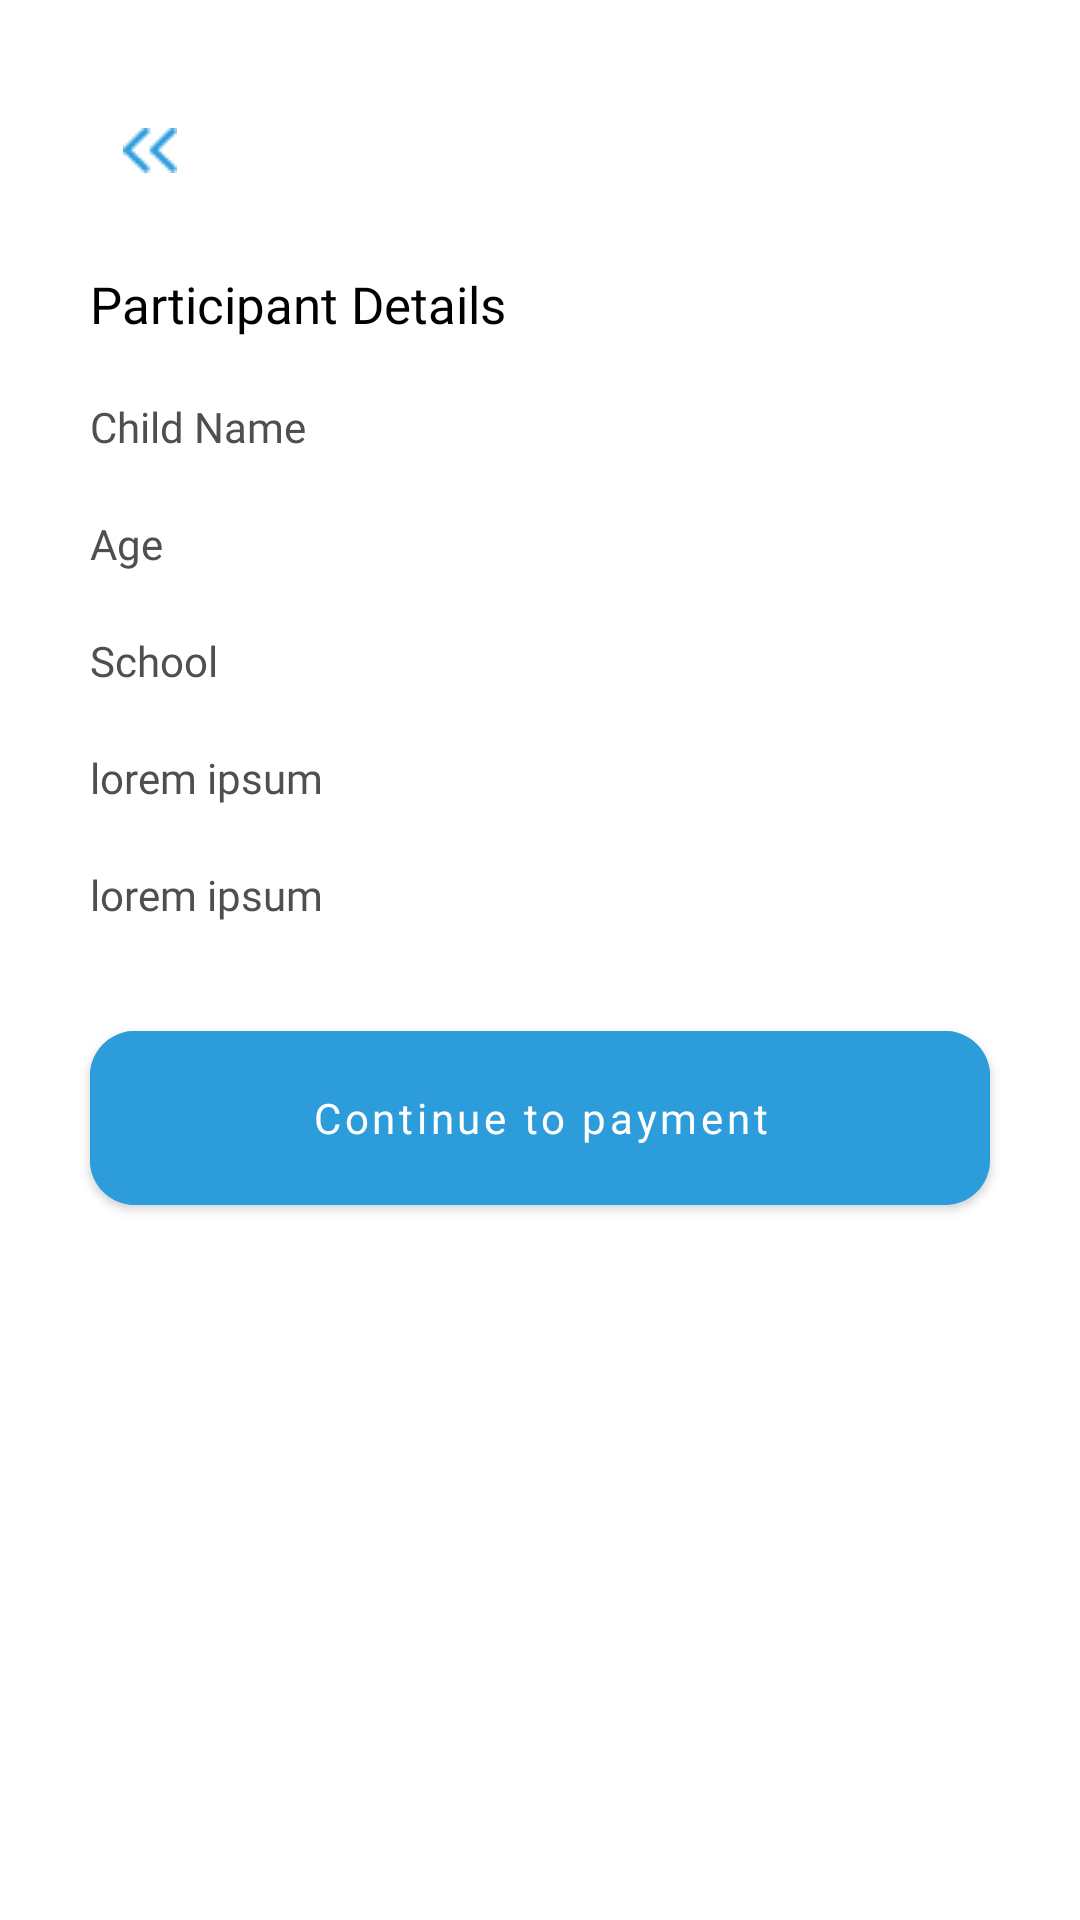

Where to tap for icons on this 1080px×1920px app screen, as (x,y):
back: (150,150)
